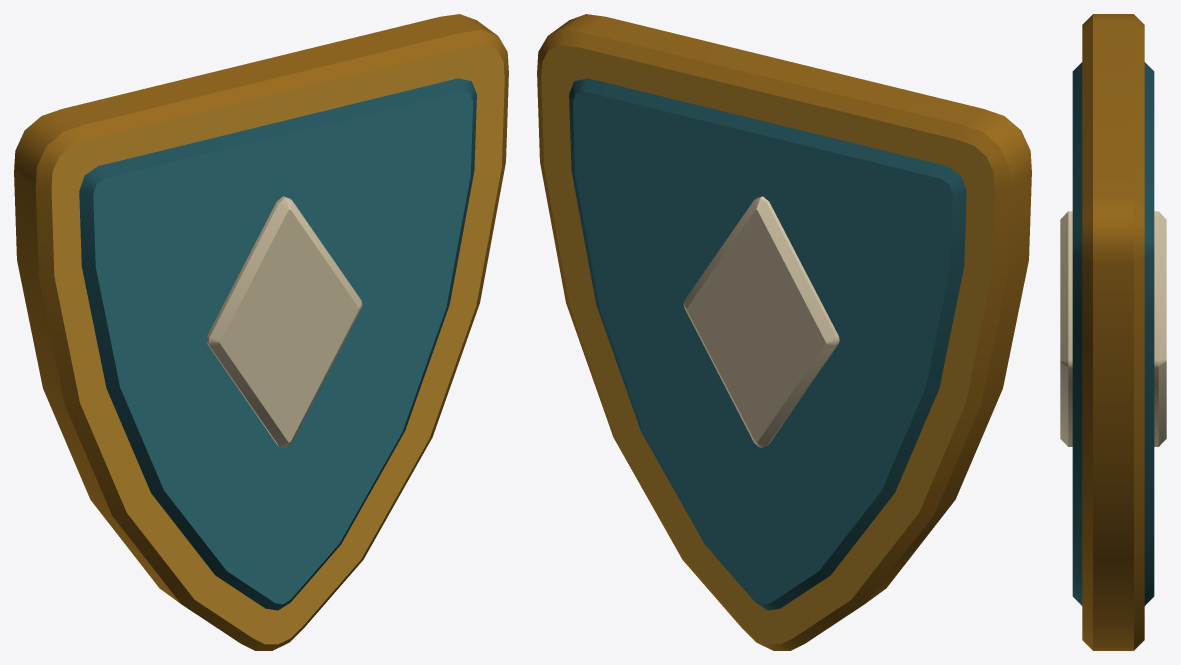
Rendered from Badge_03.glb.
3 views of the same model, side by side, from view 1: azimuth 30°, elevation 25°; view 2: azimuth 150°, elevation 25°; view 3: azimuth 270°, elevation 25° (orthographic). The views are drawn at different scales.
Visible parts, largest first — view 1: Badge_03; view 2: Badge_03; view 3: Badge_03.
Part boxes in pixels (<box>): Badge_03: <box>14,14,508,650</box>; Badge_03: <box>537,14,1031,650</box>; Badge_03: <box>1060,14,1166,650</box>.
Bounding box in the file's own units: 2.14 × 2.47 × 0.44.
